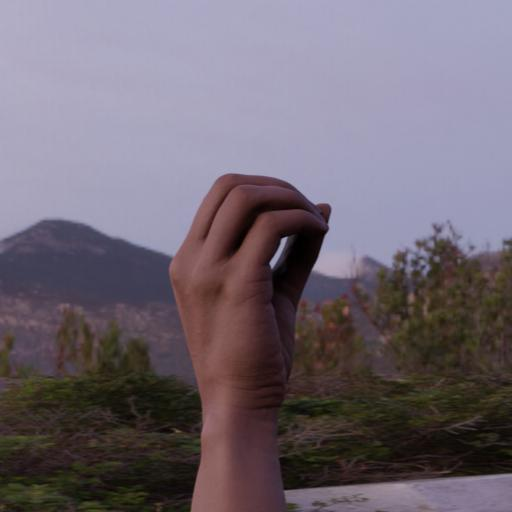O: (164, 166, 341, 416)
